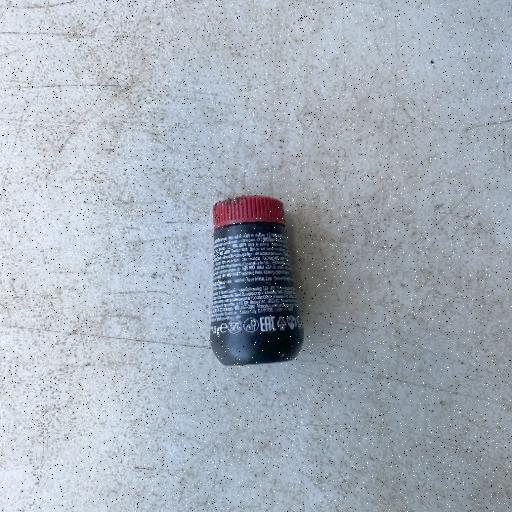Plastic: (207, 194, 305, 368)
